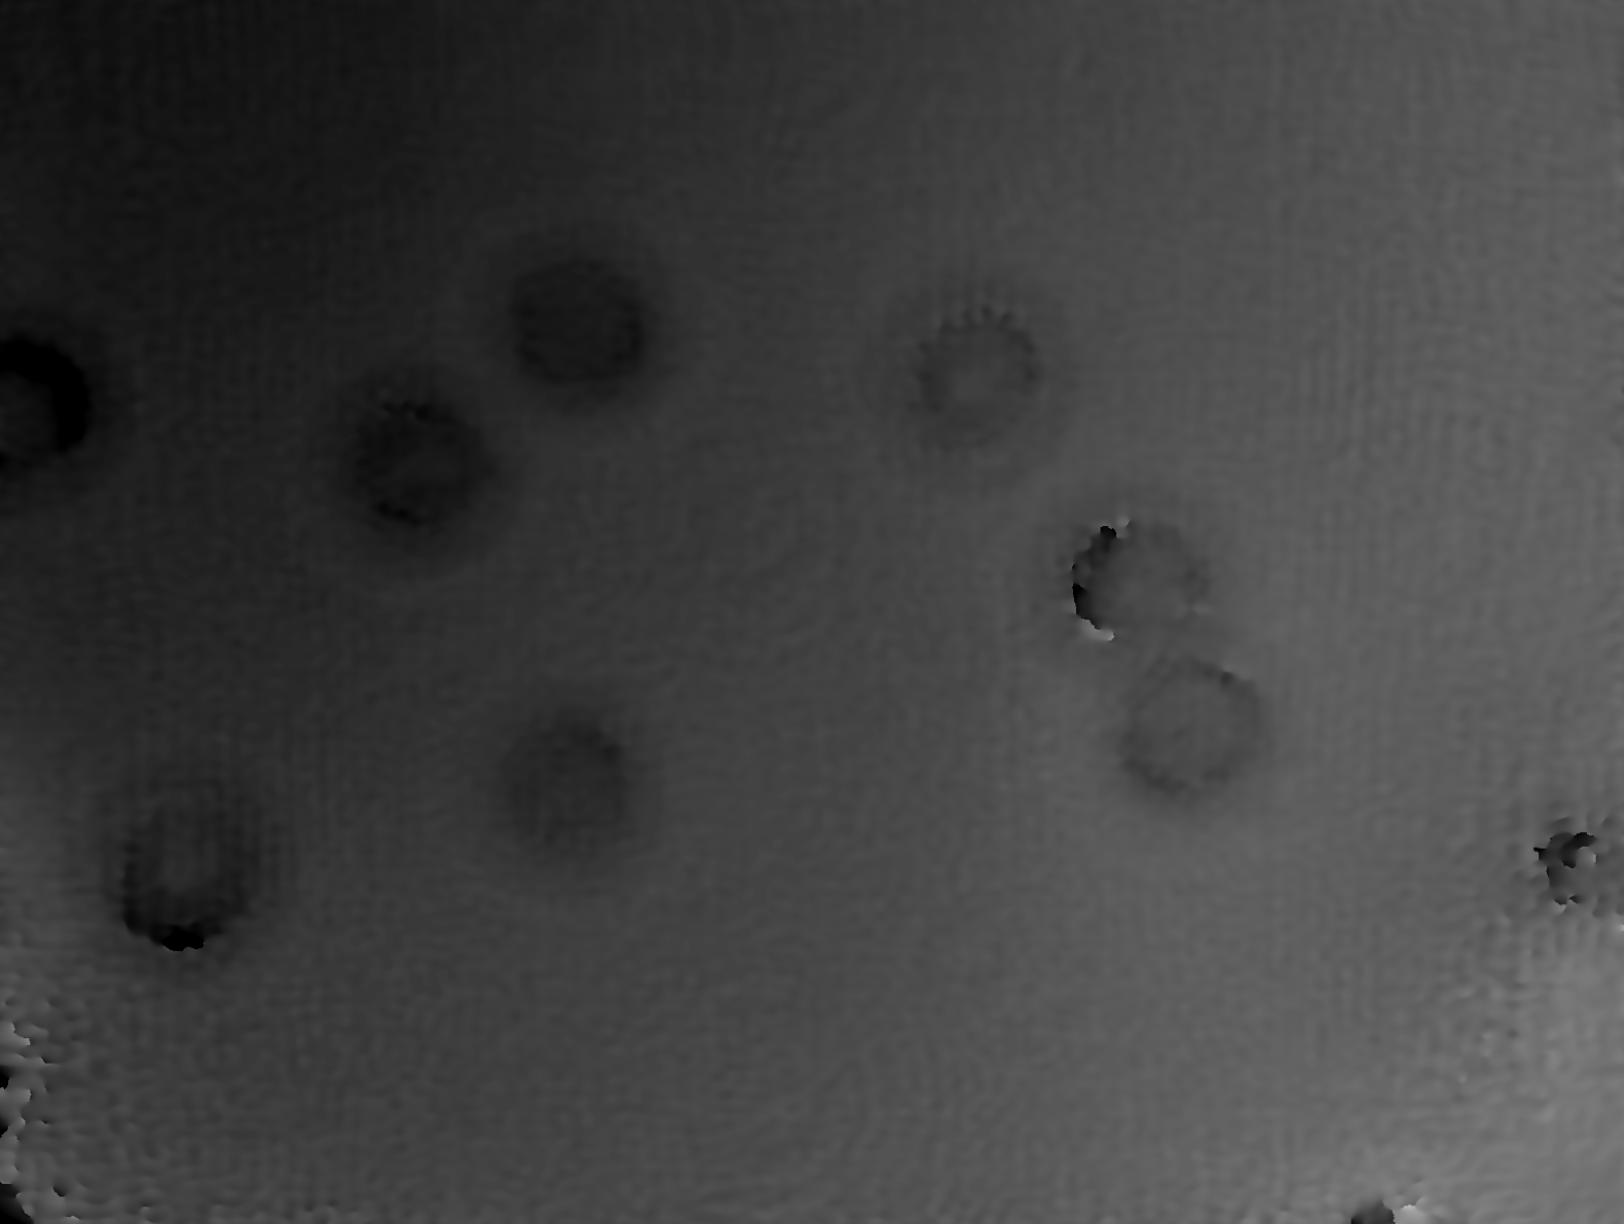cell: (72, 734, 309, 1004), (432, 660, 681, 914), (449, 207, 708, 444), (289, 347, 537, 584), (864, 258, 1090, 498), (1022, 474, 1252, 702), (1079, 622, 1297, 840), (1, 276, 159, 550)
